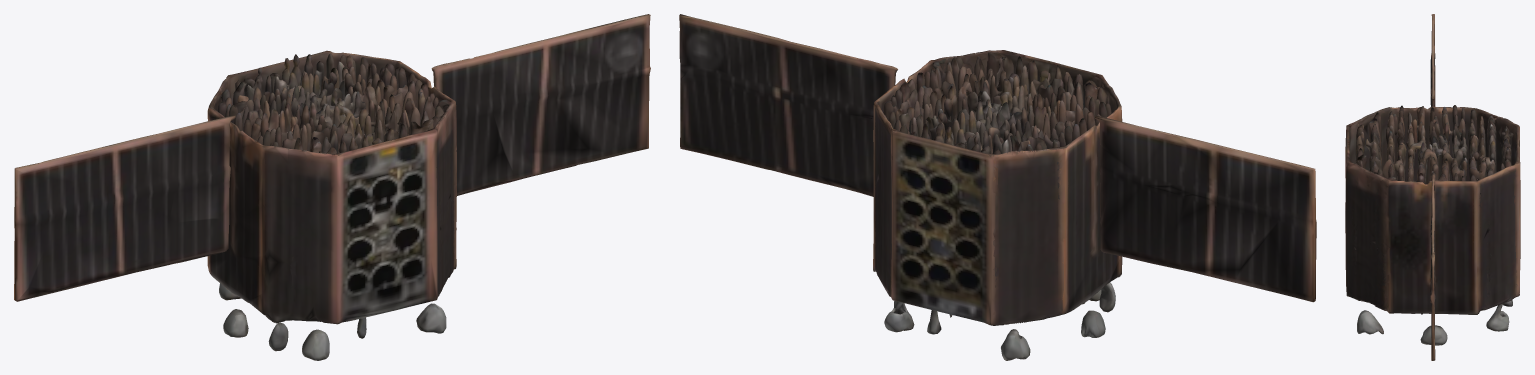
Rendered from plato.glb.
3 views of the same model, side by side, from view 1: azimuth 30°, elevation 25°; view 2: azimuth 150°, elevation 25°; view 3: azimuth 270°, elevation 25° (orthographic). The views are drawn at different scales.
Size of the model in its own units: 2.01 by 0.6741 by 0.6121.
Materials: 1 (1 with a texture image).
